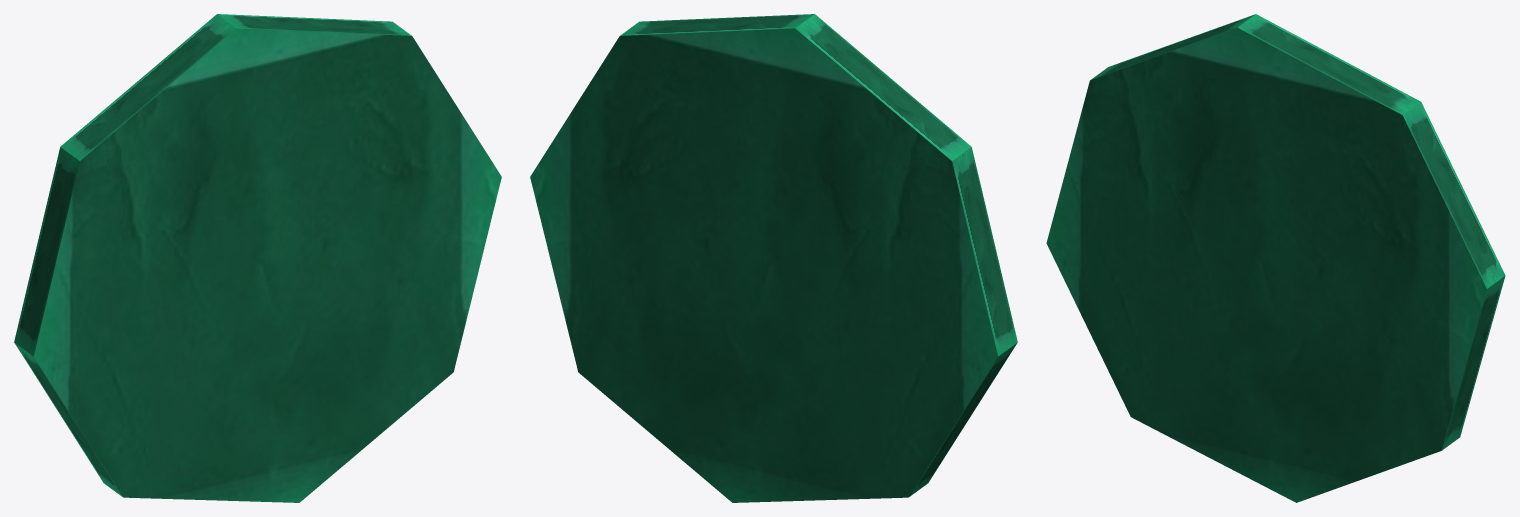
File: platform3dp_wtf.obj
The picture shows the model from 3 angles, left to right: view 1: azimuth 30°, elevation 25°; view 2: azimuth 150°, elevation 25°; view 3: azimuth 330°, elevation 25°; orthographic projection. The views are drawn at different scales.
Visible parts, largest first — view 1: group2; view 2: group2; view 3: group2.
Part boxes in pixels (bbox=[...]): group2: bbox=[14, 14, 501, 502]; group2: bbox=[530, 14, 1017, 502]; group2: bbox=[1046, 14, 1505, 502].
Bounding box in the file's own units: 660 × 660 × 48.08.
